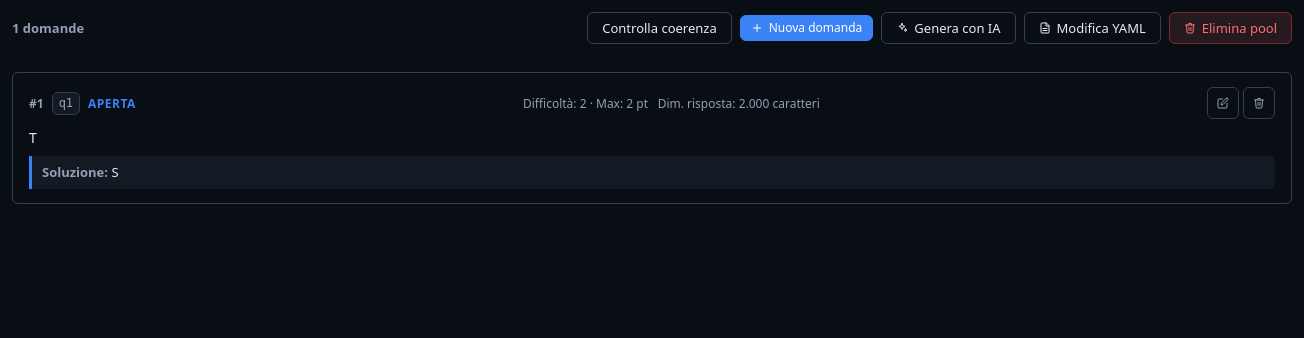
Scenario: AIGEN-UI-02 — pool toolbar icons and destructive styling › gives «Elimina pool» a trash icon and a destructive style already at rest
The image size is (1304, 338).
Check: the 4th icon is shown, box [1184, 22, 1196, 34]
Note: Conferma preservata: nessuna cancellazione immediata.
Click the button "Elimina pool" at (1230,28), box [1169, 12, 1292, 44]
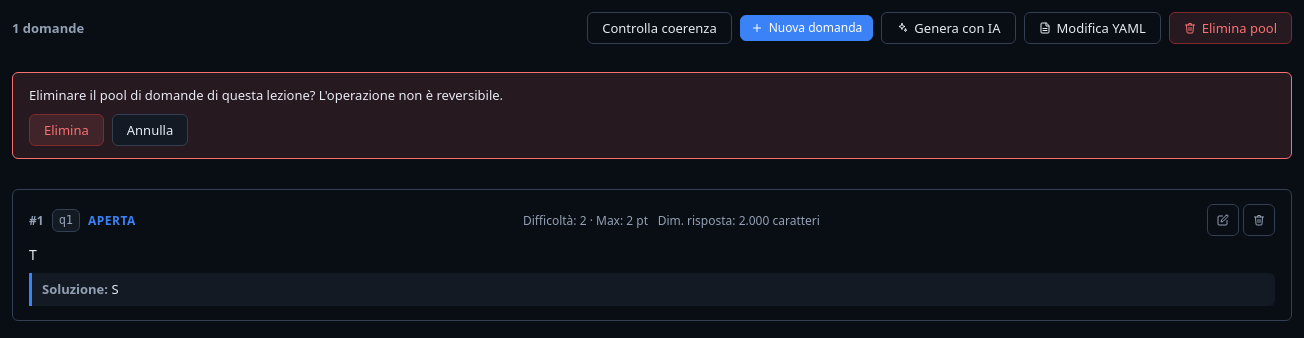
Check: the text "Eliminare il pool di domande" is shown, box [29, 86, 503, 104]
